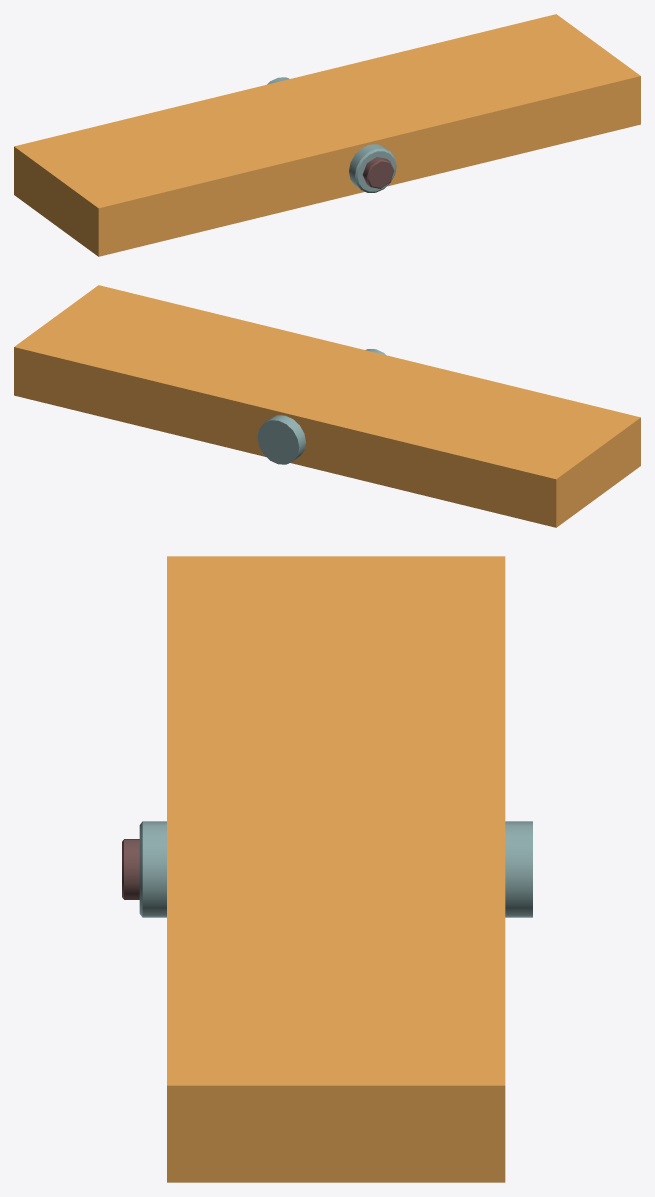
Rendered from muban@duichen.FBX.
3 renders of one model, top to bottom at view 1: azimuth 30°, elevation 25°; view 2: azimuth 150°, elevation 25°; view 3: azimuth 270°, elevation 25°, orthographic. The views are drawn at different scales.
Parts seen in each view (by area): view 1: 对称轴的木板; view 2: 对称轴的木板; view 3: 对称轴的木板.
Part boxes in pixels (x1,y1,x2,y2): 对称轴的木板: [14, 14, 640, 256]; 对称轴的木板: [14, 285, 640, 527]; 对称轴的木板: [122, 556, 532, 1182].
Size of the model in its own units: 264 by 22.57 by 86.59.
